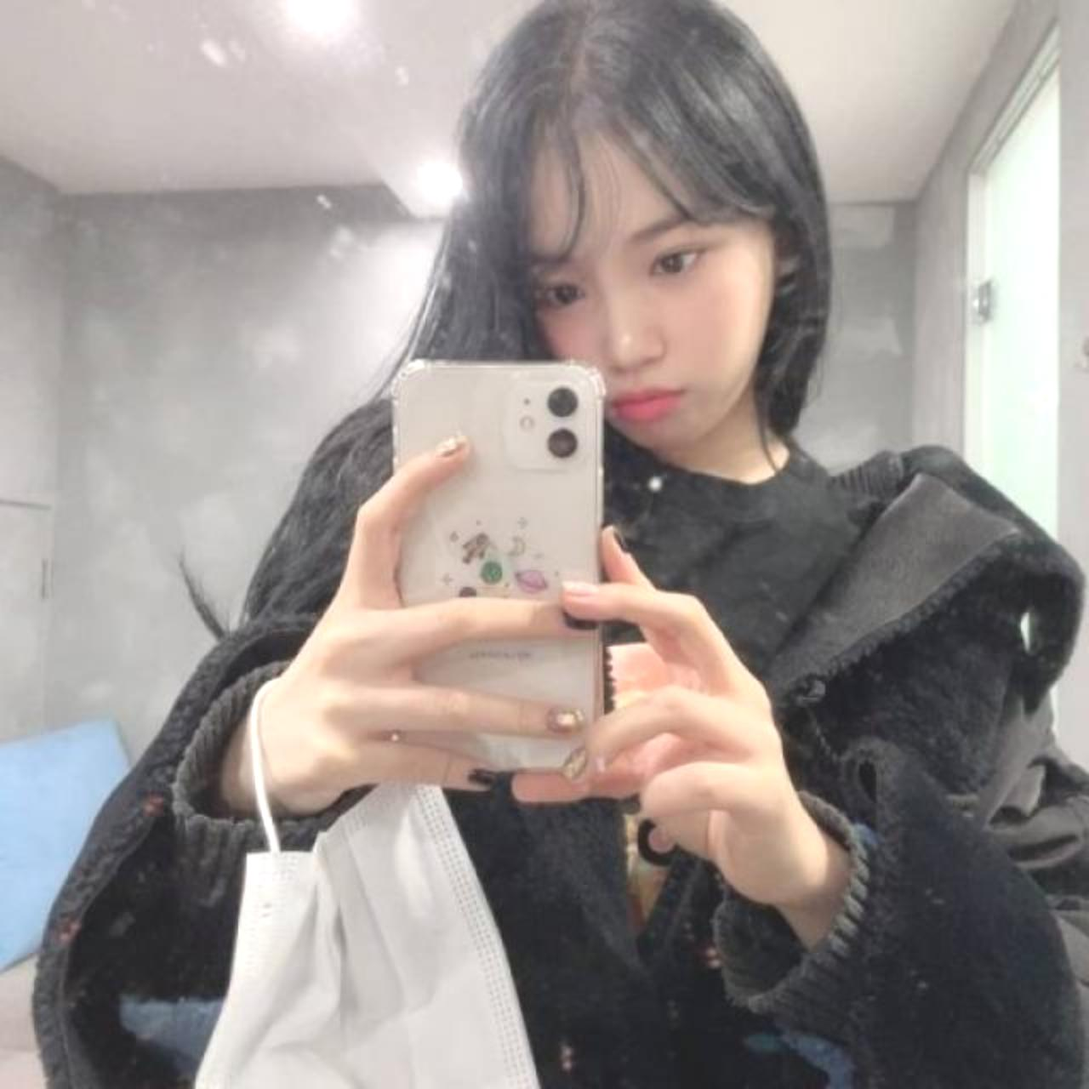phone: (388, 357, 613, 779)
